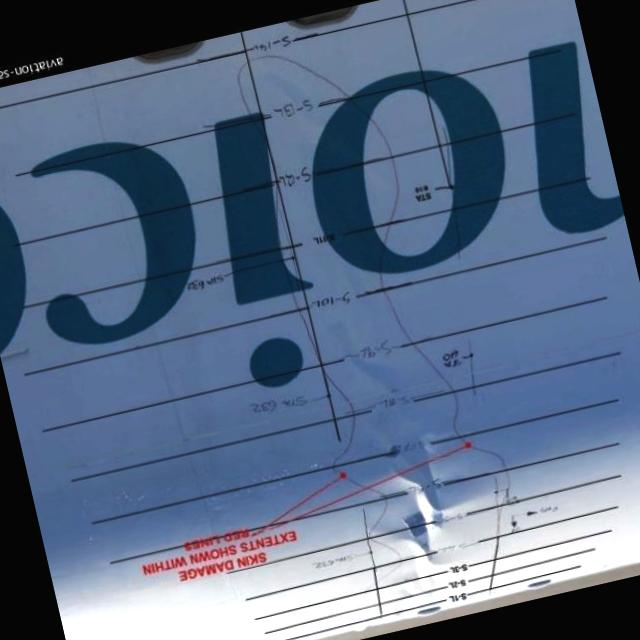dent: (393, 438, 494, 520), (391, 530, 449, 588)
